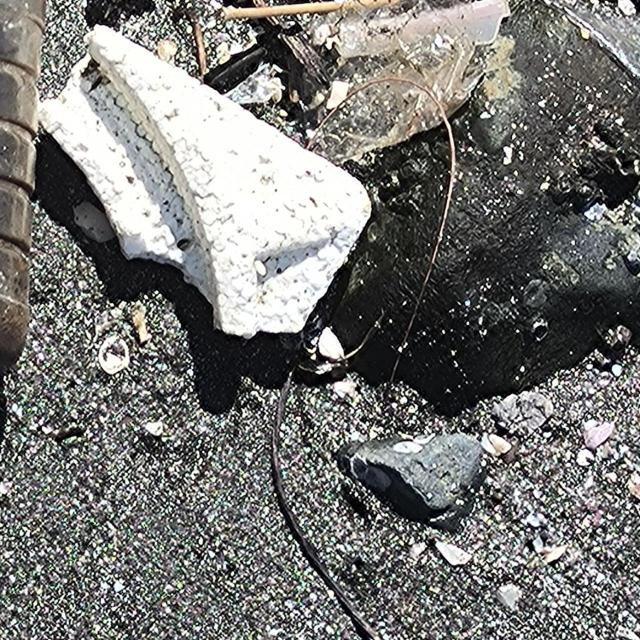litter: (36, 22, 373, 341)
